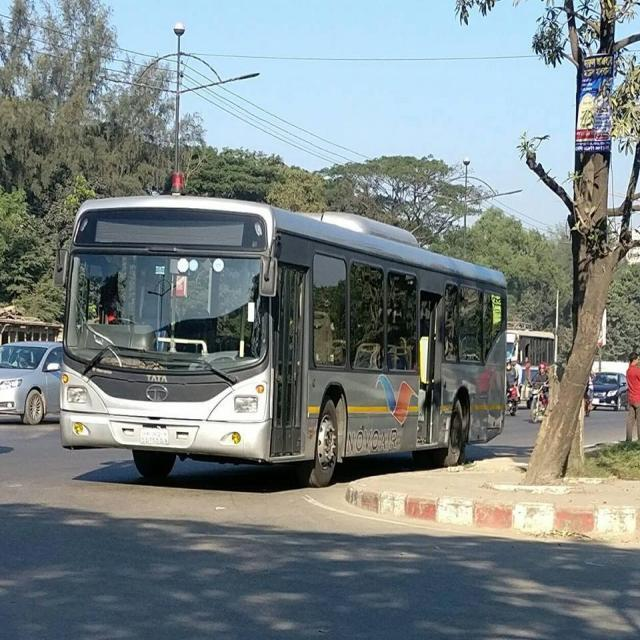bus: (51, 171, 510, 488)
